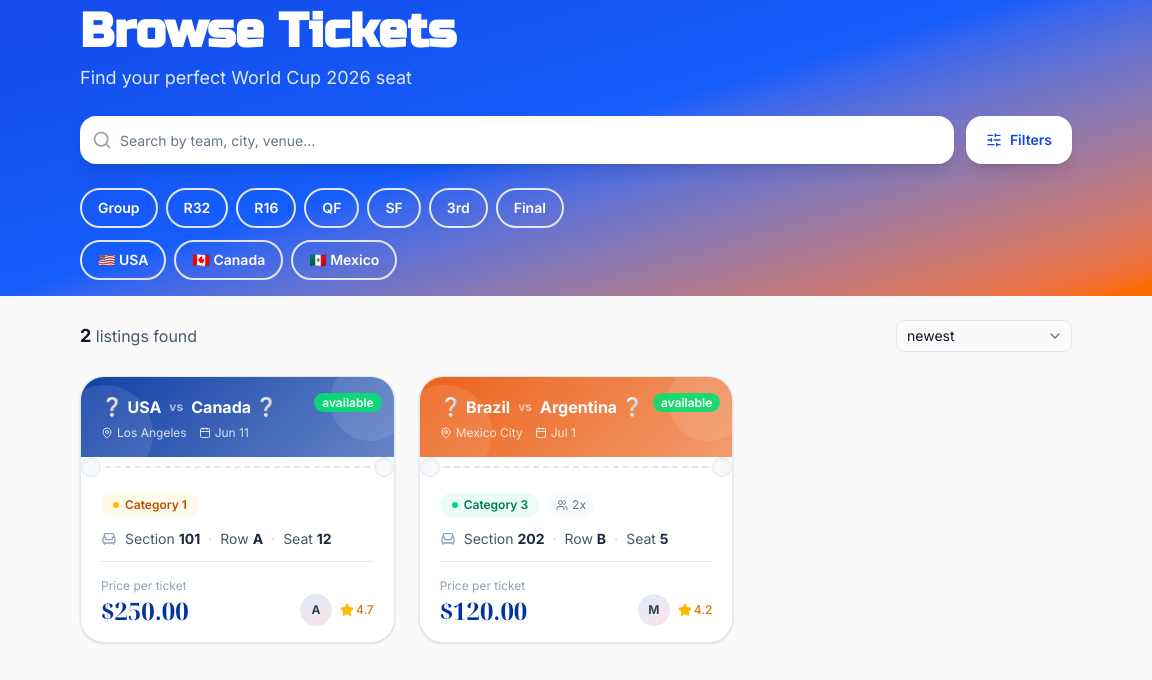
Test: BrowsePage › filters by stage chip click
Click the button with test id "stage-chip-QF" at (332, 208), box left=304, top=188, right=360, bottom=228
(page scrolled)
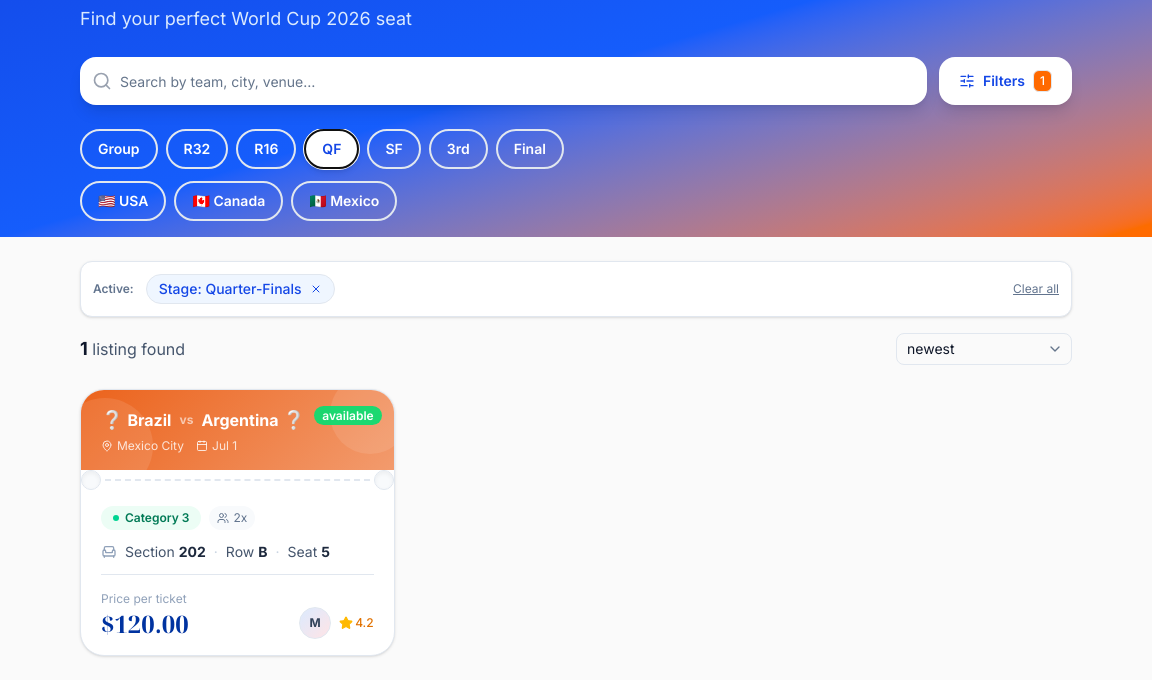
Expected: the link "Section 202" is shown, left=80, top=389, right=395, bottom=656
Now the element with test id "results-count" reads "1 listing found", box left=80, top=335, right=185, bottom=363
Now the link "Section 101" is gone
